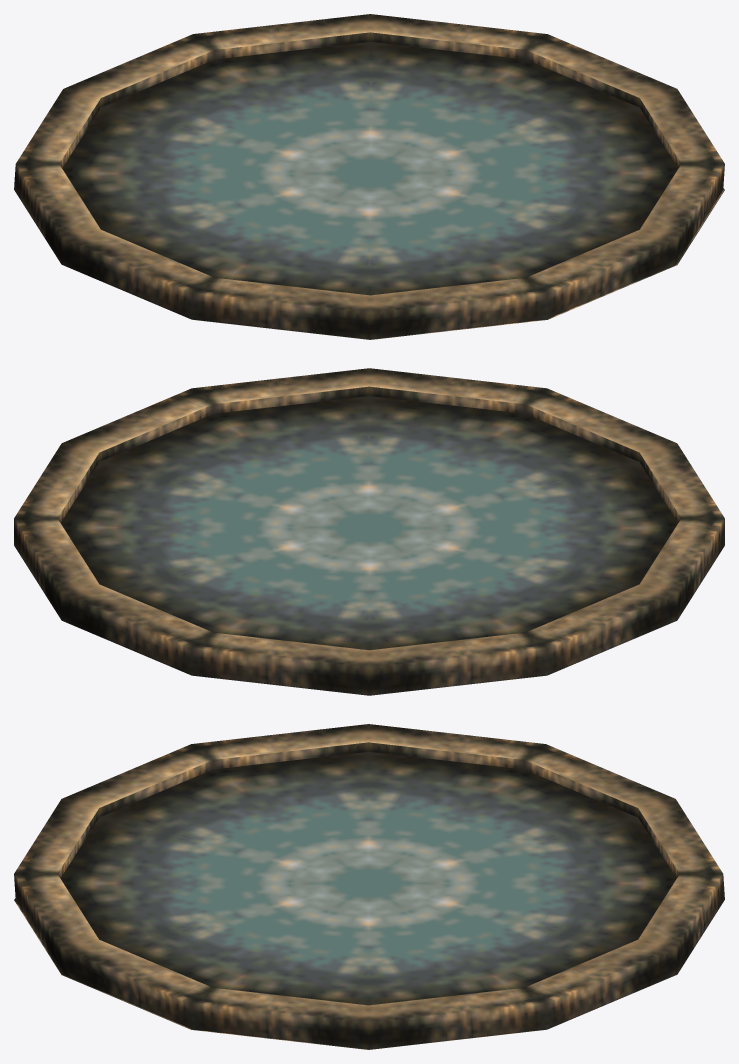
3 renders of one model, top to bottom at view 1: azimuth 30°, elevation 25°; view 2: azimuth 150°, elevation 25°; view 3: azimuth 270°, elevation 25°, orthographic.
Visible parts, largest first — view 1: wj057; view 2: wj057; view 3: wj057.
Boxes of the visible parts, x1=… form: wj057: x1=14, y1=14, x2=724, y2=339; wj057: x1=14, y1=368, x2=724, y2=695; wj057: x1=14, y1=724, x2=724, y2=1049.
Size of the model in its own units: 335 by 13.63 by 335.
